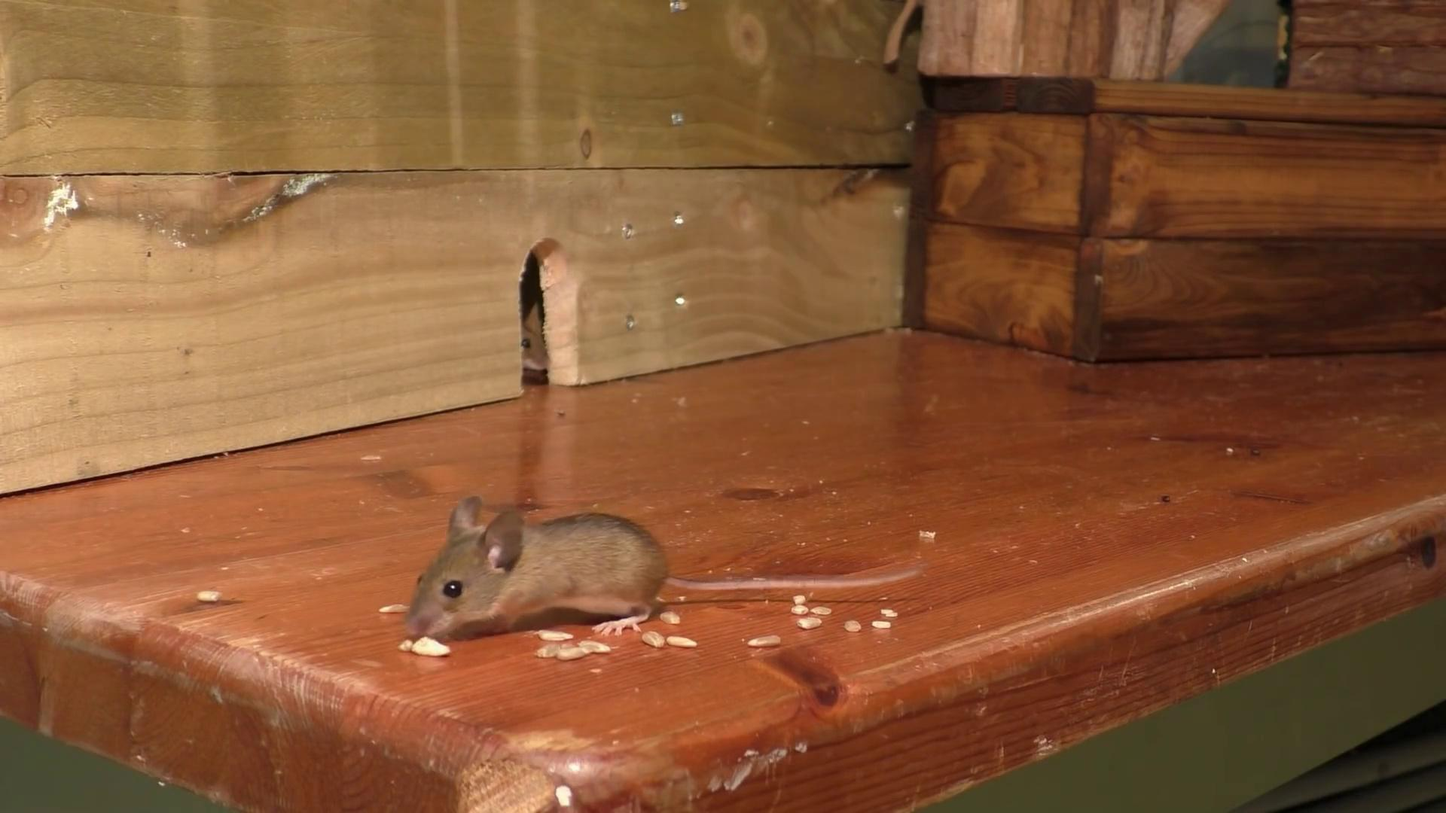rat: (405, 498, 918, 640), (522, 305, 550, 369)
